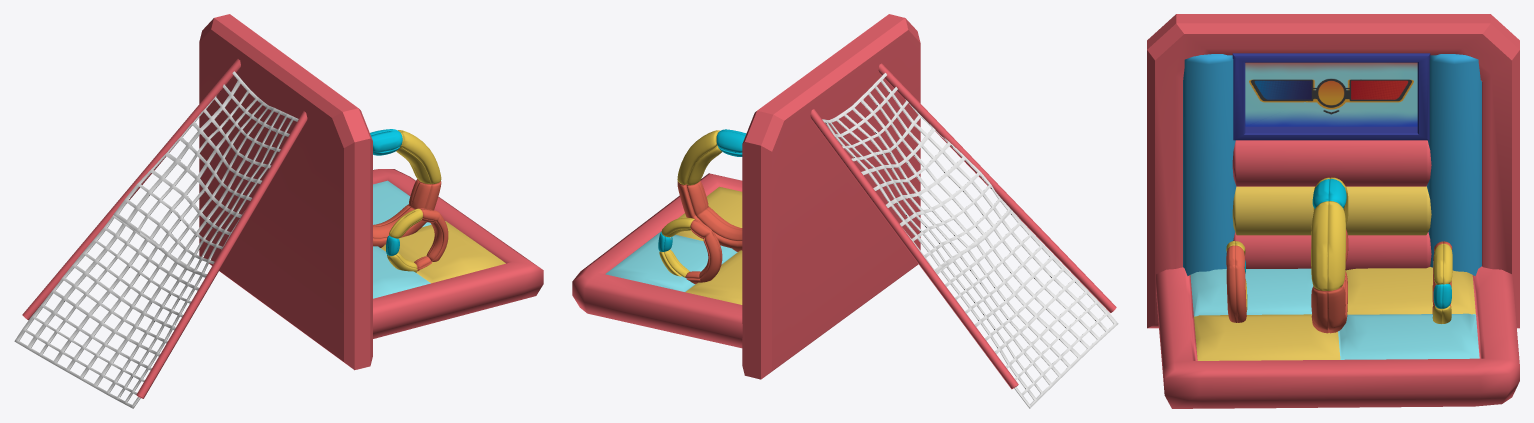
File: piezaEnmadioCaca.fbx
3 views of the same model, side by side, from view 1: azimuth 30°, elevation 25°; view 2: azimuth 150°, elevation 25°; view 3: azimuth 270°, elevation 25° (orthographic). The views are drawn at different scales.
Parts seen in each view (by area): view 1: pCube87, red10, base3, polySurface2236, polySurface2256, polySurface2255; view 2: pCube87, red10, base3, polySurface2236, polySurface2256, polySurface2257; view 3: base3, pCube87, polySurface2253, pCylinder92, pCylinder91, pCylinder93, pCylinder89, polySurface2254, polySurface2256, pCylinder90, polySurface2255, polySurface2257.
Part boxes in pixels (<box>): pCube87: <box>199,14,372,370</box>; red10: <box>14,71,298,408</box>; base3: <box>373,169,543,338</box>; polySurface2236: <box>22,59,307,398</box>; polySurface2256: <box>370,129,441,247</box>; polySurface2255: <box>386,208,448,272</box>; pCube87: <box>742,14,920,379</box>; red10: <box>822,73,1118,408</box>; base3: <box>572,173,742,348</box>; polySurface2236: <box>810,63,1116,389</box>; polySurface2256: <box>677,129,746,251</box>; polySurface2257: <box>658,217,722,284</box>; base3: <box>1156,266,1519,408</box>; pCube87: <box>1147,14,1519,328</box>; polySurface2253: <box>1245,62,1417,126</box>; pCylinder92: <box>1183,54,1236,275</box>; pCylinder91: <box>1427,54,1481,275</box>; pCylinder93: <box>1232,140,1431,186</box>; pCylinder89: <box>1232,186,1431,235</box>; polySurface2254: <box>1232,53,1430,140</box>; polySurface2256: <box>1311,177,1348,333</box>; pCylinder90: <box>1233,232,1431,270</box>; polySurface2255: <box>1226,241,1247,322</box>; polySurface2257: <box>1432,241,1452,323</box>.
Bounding box in the file's own units: 4495 × 2583 × 2817.
11 materials, 1 textured.
